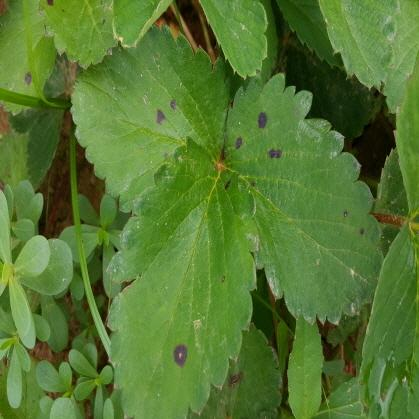Leaf Spot: (105, 133, 261, 418), (220, 69, 383, 327), (67, 23, 233, 213), (44, 0, 174, 71), (0, 0, 56, 116)
